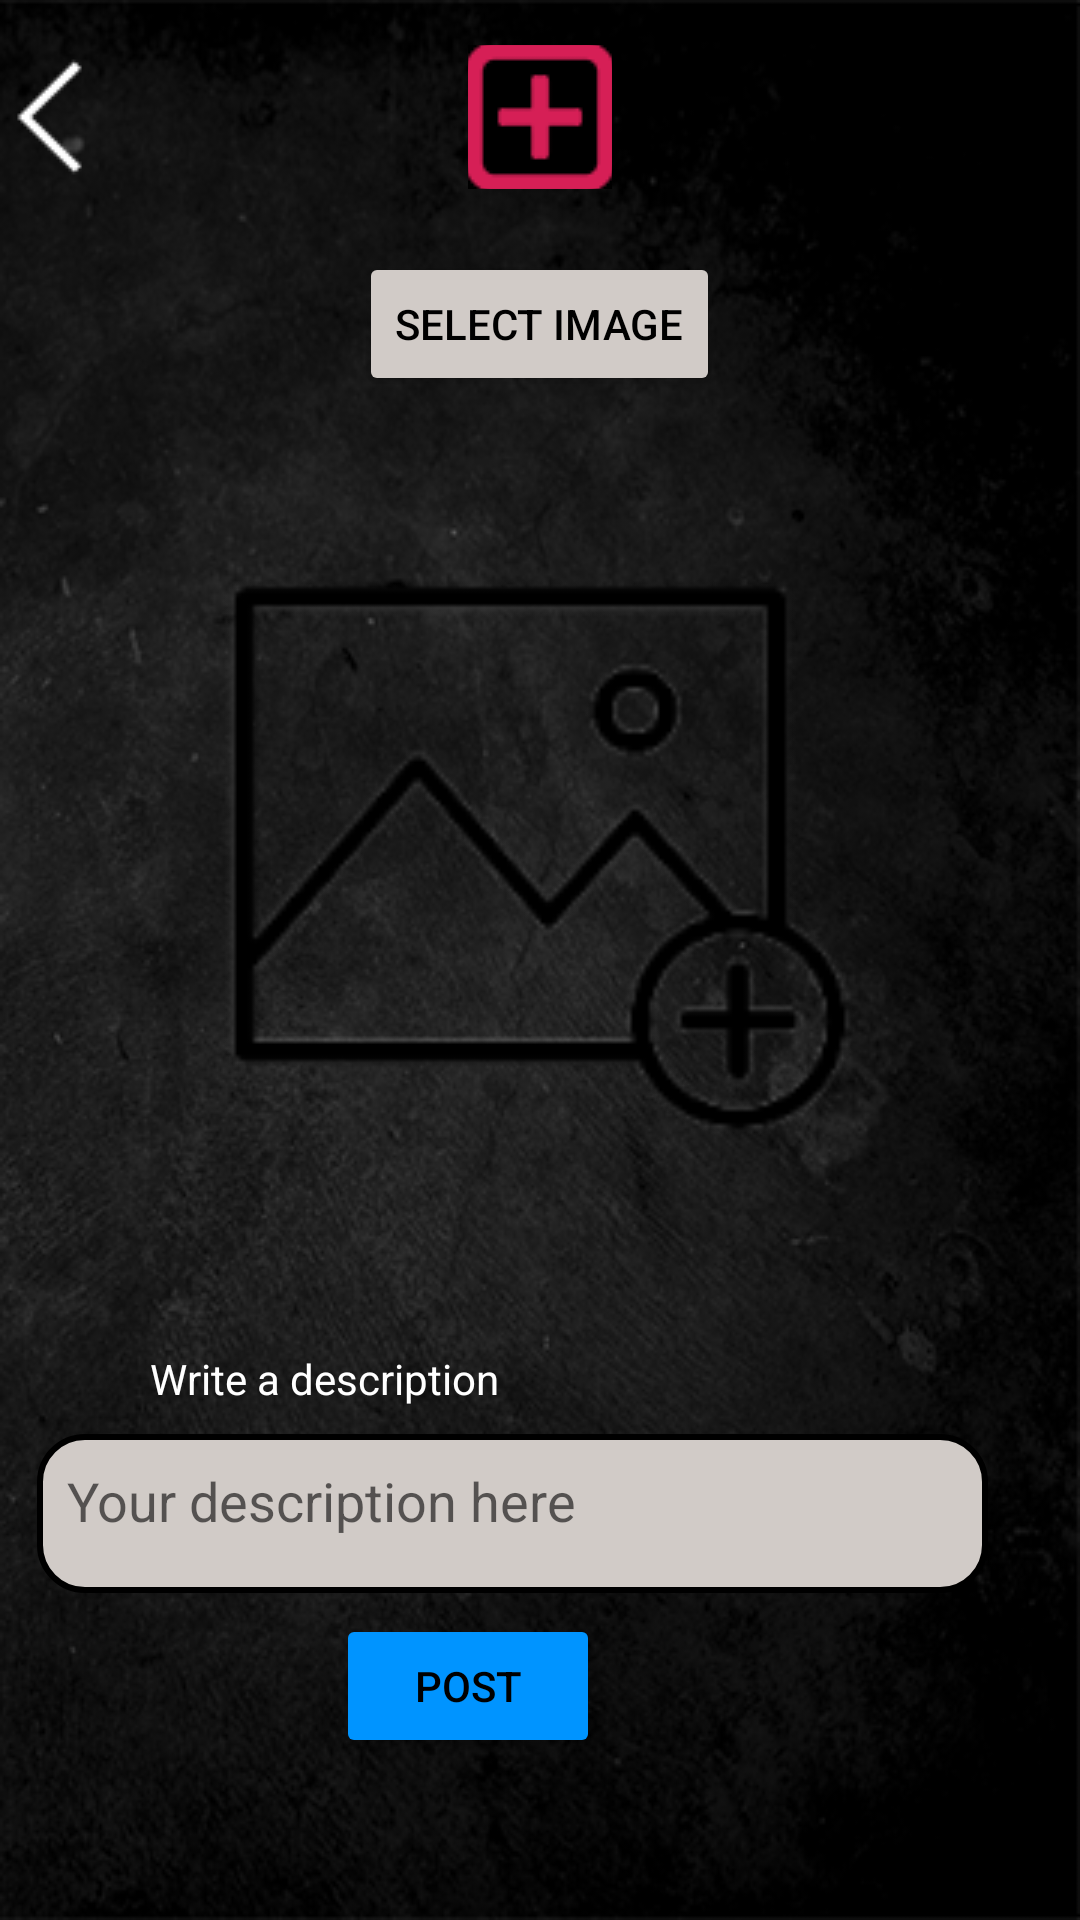

Screen size 1080*1920. Icon name, then its box in pixels as (x1, y1, x2, y2):
backbutton: (17, 61, 83, 173)
